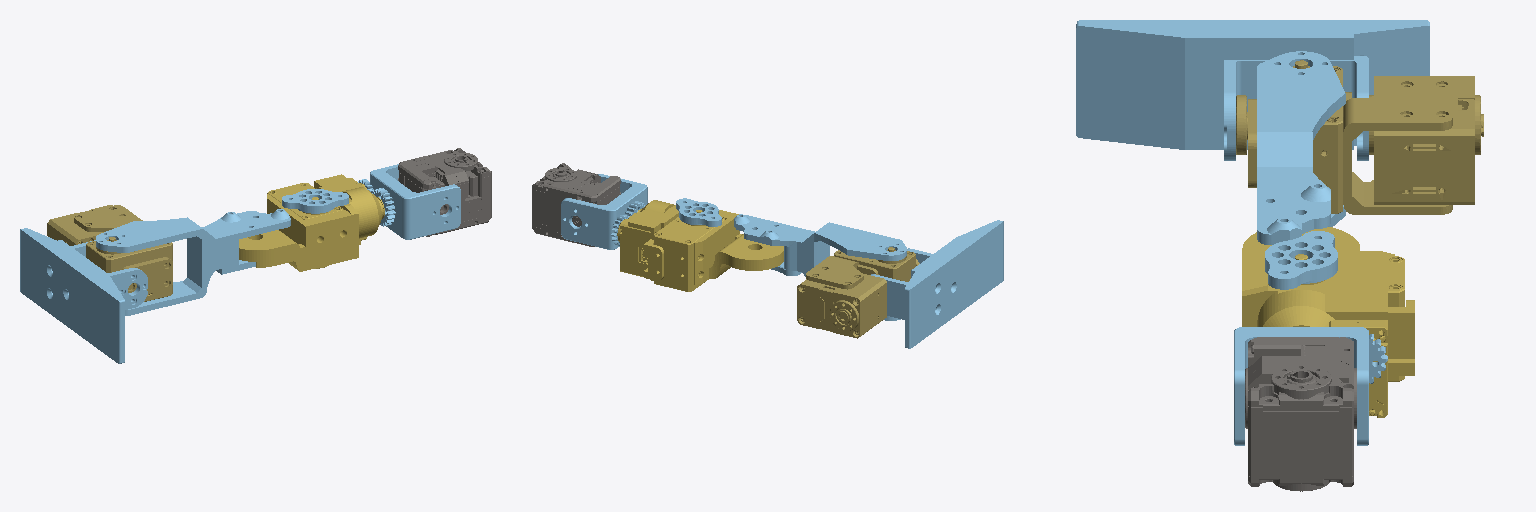
The robot description file, URDF, robot "left_leg_active":
<?xml version="1.0" ?><robot name="left_leg_active">  
  <link name="2xc430">    
    <visual>      
      <origin xyz="0 0 0" rpy="0 -0 0"/>      
      <geometry>        
        <mesh filename="package:///meshes/left_2xc430_visual.stl"/>        
      </geometry>      
      <material name="2xc430_material">        
        <color rgba="0.51698661238356058423 0.5034781595109349972 0.49050589017722023844 1.0"/>        
      </material>      
    </visual>    
    <collision>      
      <origin xyz="0 0 0" rpy="0 -0 0"/>      
      <geometry>        
        <mesh filename="package:///meshes/left_2xc430_collision.stl"/>        
      </geometry>      
    </collision>    
    <inertial>      
      <origin xyz="-0.012000151133967866882 0.00049588831386336313517 0.018504019244503622232" rpy="0 0 0"/>      
      <mass value="0.11059999999836231388"/>      
      <inertia ixx="2.2818802599021430531e-05" ixy="4.6888548259071808508e-08" ixz="4.6520143289445622075e-08" iyy="3.0871666424472358657e-05" iyz="-5.747734389972252115e-07" izz="3.0871632082341921239e-05"/>      
    </inertial>    
  </link>  

  <link name="hip_yaw_link">    
    <visual>      
      <origin xyz="0 0 0" rpy="0 -0 0"/>      
      <geometry>        
        <mesh filename="package:///meshes/left_hip_yaw_link_visual.stl"/>        
      </geometry>      
      <material name="hip_yaw_link_material">        
        <color rgba="0.61568627450980395466 0.81176470588235294379 0.92941176470588238168 1.0"/>        
      </material>      
    </visual>    
    <collision>      
      <origin xyz="0 0 0" rpy="0 -0 0"/>      
      <geometry>        
        <mesh filename="package:///meshes/left_hip_yaw_link_collision.stl"/>        
      </geometry>      
    </collision>    
    <inertial>      
      <origin xyz="-2.6788828011921458333e-18 -0.015800610849654263268 -0.019005670096647751116" rpy="0 0 0"/>      
      <mass value="0.013199999999999998193"/>      
      <inertia ixx="5.7894615975174182663e-06" ixy="-4.5096954887673704604e-35" ixz="-4.6860781276867853571e-35" iyy="5.0110144042848776317e-06" iyz="1.1826010760652090322e-09" izz="2.7344876354814340129e-06"/>      
    </inertial>    
  </link>  

  <link name="spur_gear_21_teeth">    
    <visual>      
      <origin xyz="0 0 0" rpy="0 -0 0"/>      
      <geometry>        
        <mesh filename="package:///meshes/left_spur_gear_21_teeth_visual.stl"/>        
      </geometry>      
      <material name="spur_gear_21_teeth_material">        
        <color rgba="0.61568627450980395466 0.81176470588235294379 0.9294117647058824927 1.0"/>        
      </material>      
    </visual>    
    <collision>      
      <origin xyz="0 0 0" rpy="0 -0 0"/>      
      <geometry>        
        <mesh filename="package:///meshes/left_spur_gear_21_teeth_collision.stl"/>        
      </geometry>      
    </collision>    
    <inertial>      
      <origin xyz="-4.5505288721570903318e-11 -1.678216019244386562e-11 -0.00249241020062506086" rpy="0 0 0"/>      
      <mass value="0.0022000000000000001325"/>      
      <inertia ixx="7.0162310059594183647e-08" ixy="3.8801235249534522434e-48" ixz="2.8125501580477835848e-36" iyy="7.0162310058047448545e-08" iyz="3.6086829965958632414e-39" izz="1.3125544198538289306e-07"/>      
    </inertial>    
  </link>  

  <link name="left_hip_pitch_link">    
    <visual>      
      <origin xyz="0 0 0" rpy="0 -0 0"/>      
      <geometry>        
        <mesh filename="package:///meshes/left_hip_pitch_link_visual.stl"/>        
      </geometry>      
      <material name="left_hip_pitch_link_material">        
        <color rgba="0.79618318075804161982 0.72120748766551001641 0.38540937988910828338 1.0"/>        
      </material>      
    </visual>    
    <collision>      
      <origin xyz="0 0 0" rpy="0 -0 0"/>      
      <geometry>        
        <mesh filename="package:///meshes/left_hip_pitch_link_collision.stl"/>        
      </geometry>      
    </collision>    
    <inertial>      
      <origin xyz="-0.0092773123251564115765 -0.0054583150498874076148 0.03951473811674113823" rpy="0 0 0"/>      
      <mass value="0.15848965119785968225"/>      
      <inertia ixx="8.2188788742760984481e-05" ixy="-1.3373705321924665731e-06" ixz="-9.0917451363903152822e-06" iyy="9.9396334685477759005e-05" iyz="1.2989378994414343027e-06" izz="4.5892431466748451869e-05"/>      
    </inertial>    
  </link>  

  <link name="spur_gear_18_teeth">    
    <visual>      
      <origin xyz="0 0 0" rpy="0 -0 0"/>      
      <geometry>        
        <mesh filename="package:///meshes/left_spur_gear_18_teeth_visual.stl"/>        
      </geometry>      
      <material name="spur_gear_18_teeth_material">        
        <color rgba="0.61568627450980395466 0.81176470588235294379 0.92941176470588238168 1.0"/>        
      </material>      
    </visual>    
    <collision>      
      <origin xyz="0 0 0" rpy="0 -0 0"/>      
      <geometry>        
        <mesh filename="package:///meshes/left_spur_gear_18_teeth_collision.stl"/>        
      </geometry>      
    </collision>    
    <inertial>      
      <origin xyz="-7.752038183041959484e-14 -3.6849389759155399626e-13 0.0017500000000010135486" rpy="0 0 0"/>      
      <mass value="0.0011999999999999998949"/>      
      <inertia ixx="2.9367899810799921361e-08" ixy="7.0238050736813871495e-19" ixz="-3.9642189780159722141e-36" iyy="2.9367899814659476616e-08" iyz="7.4779432983140590507e-37" izz="5.6306346207859581581e-08"/>      
    </inertial>    
  </link>  

  <joint name="left_hip_yaw_drive" type="fixed">    
    <origin xyz="-0.019199999999993125344 0.00020000000000295475866 -3.3514857555871913064e-14" rpy="-3.1415926535896550043 -5.0131548558082056583e-13 4.8264233360682142308e-13"/>    
    <parent link="left_hip_pitch_link"/>    
    <child link="spur_gear_18_teeth"/>    
    <axis xyz="0 0 1"/>    
    <limit effort="1" velocity="20"/>    
    <joint_properties friction="0.0"/>    
  </joint>  

  <link name="left_calf_link">    
    <visual>      
      <origin xyz="0 0 0" rpy="0 -0 0"/>      
      <geometry>        
        <mesh filename="package:///meshes/left_calf_link_visual.stl"/>        
      </geometry>      
      <material name="left_calf_link_material">        
        <color rgba="0.61568627450980395466 0.81176470588235294379 0.92941176470588238168 1.0"/>        
      </material>      
    </visual>    
    <collision>      
      <origin xyz="0 0 0" rpy="0 -0 0"/>      
      <geometry>        
        <mesh filename="package:///meshes/left_calf_link_collision.stl"/>        
      </geometry>      
    </collision>    
    <inertial>      
      <origin xyz="-0.0043450054391248908378 0.040752982165250292712 0.0087116093515538488984" rpy="0 0 0"/>      
      <mass value="0.031000000000000003247"/>      
      <inertia ixx="3.3069388685110862264e-05" ixy="-1.3783307153200015641e-06" ixz="-1.274253402633582998e-07" iyy="7.7316525337312923483e-06" iyz="-7.3356500593809879232e-08" izz="2.803137775398619952e-05"/>      
    </inertial>    
  </link>  

  <link name="left_ank_pitch_link">    
    <visual>      
      <origin xyz="0 0 0" rpy="0 -0 0"/>      
      <geometry>        
        <mesh filename="package:///meshes/left_ank_pitch_link_visual.stl"/>        
      </geometry>      
      <material name="left_ank_pitch_link_material">        
        <color rgba="0.70321688500203349825 0.64514870846184446673 0.40484735422826273465 1.0"/>        
      </material>      
    </visual>    
    <collision>      
      <origin xyz="0 0 0" rpy="0 -0 0"/>      
      <geometry>        
        <mesh filename="package:///meshes/left_ank_pitch_link_collision.stl"/>        
      </geometry>      
    </collision>    
    <inertial>      
      <origin xyz="0.017770241891401212381 0.012301334508572169327 0.018813528244421767049" rpy="0 0 0"/>      
      <mass value="0.17676376695067907985"/>      
      <inertia ixx="4.7283316680251609909e-05" ixy="-1.3380598598440940839e-06" ixz="-5.5304058905135761946e-07" iyy="0.00010706456048089211587" iyz="-5.3225137839476575408e-08" izz="0.00012185522397136355495"/>      
    </inertial>    
  </link>  

  <link name="ank_roll_link">    
    <visual>      
      <origin xyz="0 0 0" rpy="0 -0 0"/>      
      <geometry>        
        <mesh filename="package:///meshes/left_ank_roll_link_visual.stl"/>        
      </geometry>      
      <material name="ank_roll_link_material">        
        <color rgba="0.61568627450980384364 0.81176470588235283277 0.92941176470588227065 1.0"/>        
      </material>      
    </visual>    
    <collision>      
      <origin xyz="0 0 0" rpy="0 -0 0"/>      
      <geometry>        
        <mesh filename="package:///meshes/left_ank_roll_link_collision.stl"/>        
      </geometry>      
    </collision>    
    <inertial>      
      <origin xyz="-0.027003066516822105125 -2.0057285780772465402e-12 0.033764011359896435593" rpy="0 0 0"/>      
      <mass value="0.042600000000000012856"/>      
      <inertia ixx="3.7284397827464328061e-05" ixy="-5.5173241969370399862e-16" ixz="2.3929183768080750974e-06" iyy="3.7589276943350436312e-05" iyz="5.0934855318400778365e-12" izz="1.0090430906786797971e-05"/>      
    </inertial>    
  </link>  

  <joint name="left_ank_roll" type="revolute">    
    <origin xyz="0.022749999999985347915 -7.7438055967604668695e-15 0.019000000000000561579" rpy="-1.5707963267949487385 6.9598897929083939361e-14 1.5707963267951468023"/>    
    <parent link="left_ank_pitch_link"/>    
    <child link="ank_roll_link"/>    
    <axis xyz="0 0 1"/>    
    <limit effort="1" velocity="20" lower="-1.570796326794896558" upper="1.570796326794896558"/>    
    <joint_properties friction="0.0"/>    
  </joint>  

  <joint name="left_ank_pitch" type="revolute">    
    <origin xyz="-1.5860271119798389095e-15 0.099999999999998423483 0.027750000000001679573" rpy="-3.141592653589793116 2.6670249114811232296e-16 -3.8252904387067536217e-14"/>    
    <parent link="left_calf_link"/>    
    <child link="left_ank_pitch_link"/>    
    <axis xyz="0 0 1"/>    
    <limit effort="1" velocity="20" lower="-1.7453292519943295336" upper="0.785398163397448279"/>    
    <joint_properties friction="0.0"/>    
  </joint>  

  <joint name="left_knee" type="revolute">    
    <origin xyz="-9.150119726040088374e-16 -0.0087499999999997267464 0.085949999999997653277" rpy="1.5707963267948872321 4.8975632202997979707e-15 3.141592653589793116"/>    
    <parent link="left_hip_pitch_link"/>    
    <child link="left_calf_link"/>    
    <axis xyz="0 0 1"/>    
    <limit effort="1" velocity="20" lower="-2.0943951023931952626" upper="0"/>    
    <joint_properties friction="0.0"/>    
  </joint>  

  <link name="xm430_plate">    
    <visual>      
      <origin xyz="0 0 0" rpy="0 -0 0"/>      
      <geometry>        
        <mesh filename="package:///meshes/left_xm430_plate_visual.stl"/>        
      </geometry>      
      <material name="xm430_plate_material">        
        <color rgba="0.61568627450980395466 0.81176470588235294379 0.9294117647058824927 1.0"/>        
      </material>      
    </visual>    
    <collision>      
      <origin xyz="0 0 0" rpy="0 -0 0"/>      
      <geometry>        
        <mesh filename="package:///meshes/left_xm430_plate_collision.stl"/>        
      </geometry>      
    </collision>    
    <inertial>      
      <origin xyz="1.5284898498035939143e-17 -2.6039897774112988365e-18 0.0025278513919583887187" rpy="0 0 0"/>      
      <mass value="0.0026999999999999992756"/>      
      <inertia ixx="1.2887178787151822041e-07" ixy="5.8739562556303606535e-08" ixz="-9.9980146054615768914e-37" iyy="2.4635091298412528789e-07" iyz="-3.0618892391105573999e-36" izz="3.646799841381030595e-07"/>      
    </inertial>    
  </link>  

  <joint name="left_knee_act" type="fixed">    
    <origin xyz="-7.4872906434390518473e-16 0.012449999999999808442 0.044499999999998859912" rpy="-1.5707963267948827912 1.5707963267948863439 0"/>    
    <parent link="left_hip_pitch_link"/>    
    <child link="xm430_plate"/>    
    <axis xyz="0 0 1"/>    
    <limit effort="1" velocity="20"/>    
    <joint_properties friction="0.0"/>    
  </joint>  

  <joint name="left_hip_yaw" type="revolute">    
    <origin xyz="6.1229146868660582384e-18 3.4694469519536141888e-18 -0.0050000000000000044409" rpy="3.1415926535897837901 1.1763977000879646623e-14 2.7749339408464486521e-29"/>    
    <parent link="spur_gear_21_teeth"/>    
    <child link="left_hip_pitch_link"/>    
    <axis xyz="0 0 1"/>    
    <limit effort="1" velocity="20" lower="-1.570796326794896558" upper="1.570796326794896558"/>    
    <joint_properties friction="0.0"/>    
  </joint>  

  <joint name="left_hip_yaw_fixed" type="fixed">    
    <origin xyz="-3.4694469519536141888e-18 -0.027999999999999986705 -0.018999999999999999528" rpy="-1.5707963267948950037 1.570796326794896336 0"/>    
    <parent link="hip_yaw_link"/>    
    <child link="spur_gear_21_teeth"/>    
    <axis xyz="0 0 1"/>    
    <limit effort="1" velocity="20"/>    
    <joint_properties friction="0.0"/>    
  </joint>  

  <joint name="left_hip_roll" type="revolute">    
    <origin xyz="-0.024000000716154074043 0.019000000152474230686 0.019000000152447748397" rpy="-1.5707963267952167463 -1.5707963267948206187 0"/>    
    <parent link="2xc430"/>    
    <child link="hip_yaw_link"/>    
    <axis xyz="0 0 1"/>    
    <limit effort="1" velocity="20" lower="-0.785398163397448279" upper="0.785398163397448279"/>    
    <joint_properties friction="0.0"/>    
  </joint>  


</robot>

--- What the picture shows (computed from the rendered views, not written in the file) ---
Views: 3 orthographic renders of the robot side by side, from view 1: azimuth 30°, elevation 25°; view 2: azimuth 150°, elevation 25°; view 3: azimuth 270°, elevation 25°.
Model left_leg_active with 9 links and 8 joints (5 revolute, 3 fixed), rooted at 2xc430, posed all joints at 0.
Links seen in each view (by area): view 1: ank_roll_link, left_hip_pitch_link, left_calf_link, left_ank_pitch_link, 2xc430, hip_yaw_link, xm430_plate; view 2: left_hip_pitch_link, ank_roll_link, left_ank_pitch_link, left_calf_link, 2xc430, hip_yaw_link, xm430_plate; view 3: ank_roll_link, left_ank_pitch_link, 2xc430, left_hip_pitch_link, left_calf_link, hip_yaw_link, xm430_plate, spur_gear_18_teeth.
Boxes of the visible links, left/top/right/bottom form: ank_roll_link: left=20, top=228, right=147, bottom=363; left_hip_pitch_link: left=239, top=174, right=384, bottom=271; left_calf_link: left=96, top=209, right=290, bottom=315; left_ank_pitch_link: left=47, top=205, right=172, bottom=301; 2xc430: left=398, top=148, right=491, bottom=236; hip_yaw_link: left=370, top=164, right=460, bottom=239; xm430_plate: left=282, top=189, right=348, bottom=213; left_hip_pitch_link: left=617, top=200, right=783, bottom=291; ank_roll_link: left=871, top=220, right=1003, bottom=348; left_ank_pitch_link: left=797, top=247, right=919, bottom=338; left_calf_link: left=734, top=214, right=906, bottom=320; 2xc430: left=532, top=163, right=620, bottom=246; hip_yaw_link: left=561, top=174, right=647, bottom=249; xm430_plate: left=676, top=198, right=721, bottom=226; ank_roll_link: left=1076, top=20, right=1429, bottom=160; left_ank_pitch_link: left=1236, top=60, right=1483, bottom=214; 2xc430: left=1245, top=337, right=1356, bottom=491; left_hip_pitch_link: left=1242, top=227, right=1414, bottom=417; left_calf_link: left=1257, top=51, right=1345, bottom=244; hip_yaw_link: left=1234, top=327, right=1368, bottom=445; xm430_plate: left=1265, top=231, right=1337, bottom=289; spur_gear_18_teeth: left=1369, top=334, right=1387, bottom=383.
Bounding box of the posed robot: 0.2932 × 0.138 × 0.0489 m (x, y, z).
Meshes: 9 distinct files referenced, 9 mesh visuals loaded (9 binary STL).
